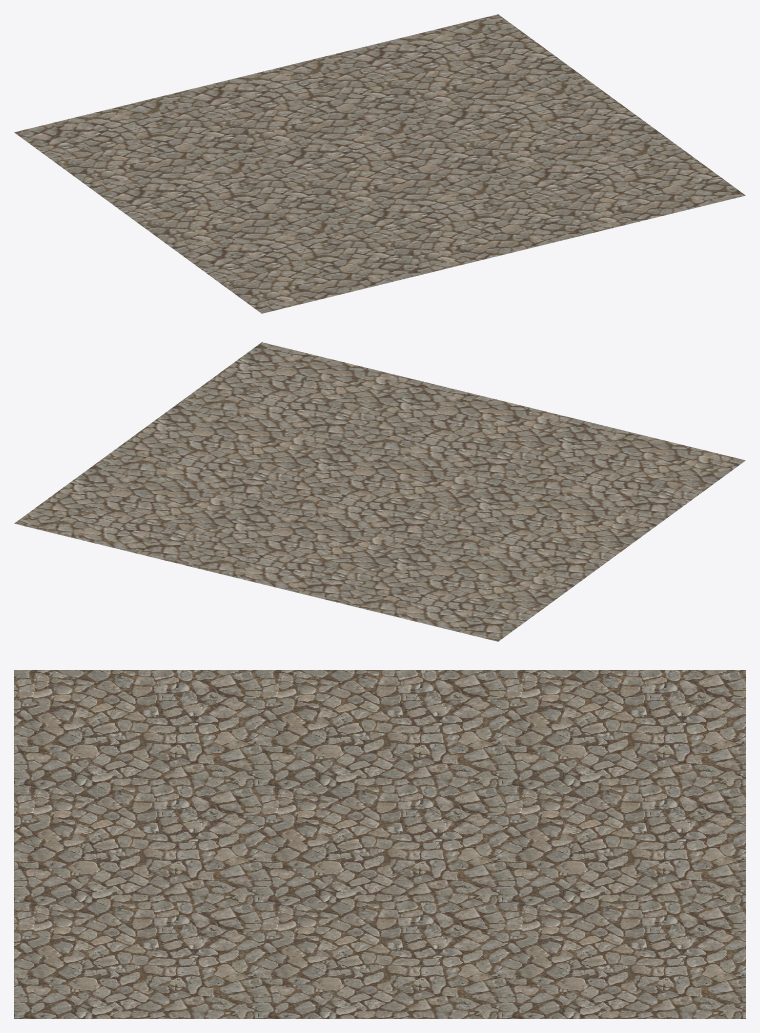
File: Tile7.fbx
3 renders of one model, top to bottom at view 1: azimuth 30°, elevation 25°; view 2: azimuth 150°, elevation 25°; view 3: azimuth 270°, elevation 25°, orthographic. The views are drawn at different scales.
Visible parts, largest first — view 1: Lobby_Plane.009; view 2: Lobby_Plane.009; view 3: Lobby_Plane.009.
Part boxes in pixels (x1,y1,x2,y2): Lobby_Plane.009: (14,14,745,313); Lobby_Plane.009: (14,342,745,641); Lobby_Plane.009: (14,670,745,1018).
Bounding box in the file's own units: 10841 × 0.00354 × 9611.
